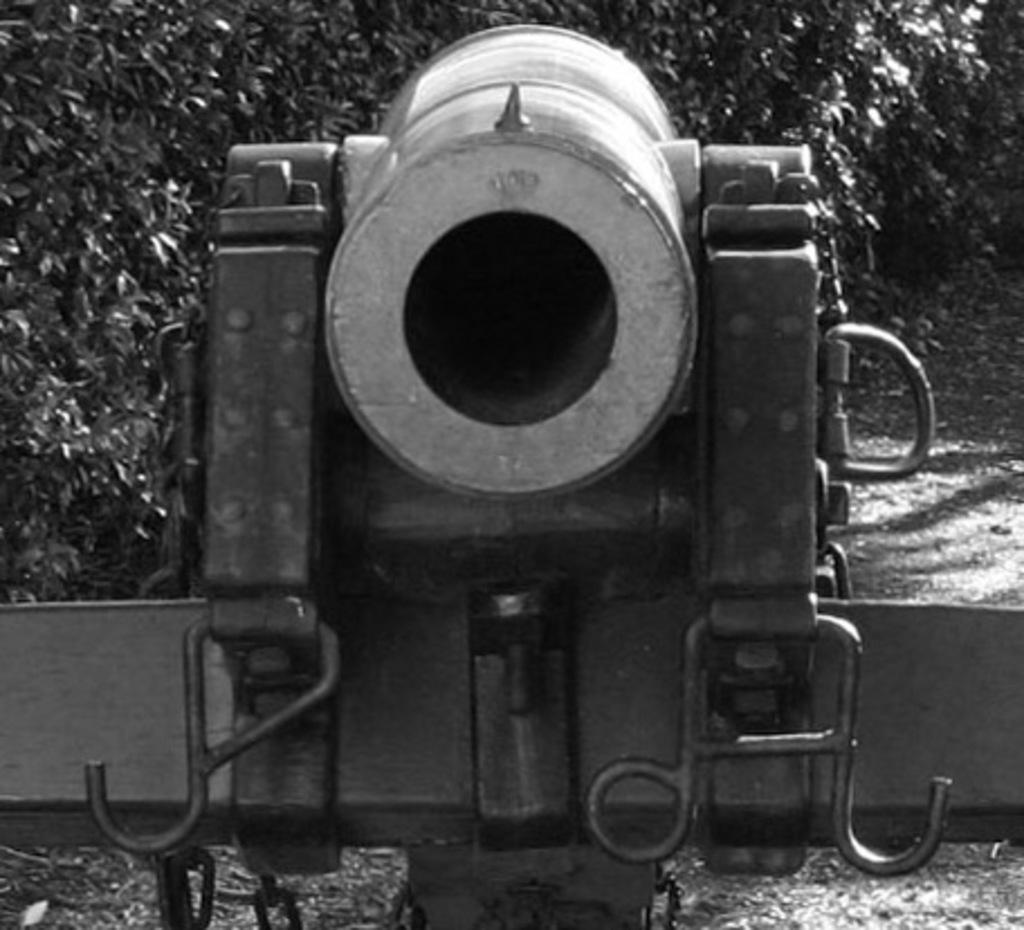weapon: (1, 13, 1022, 930)
